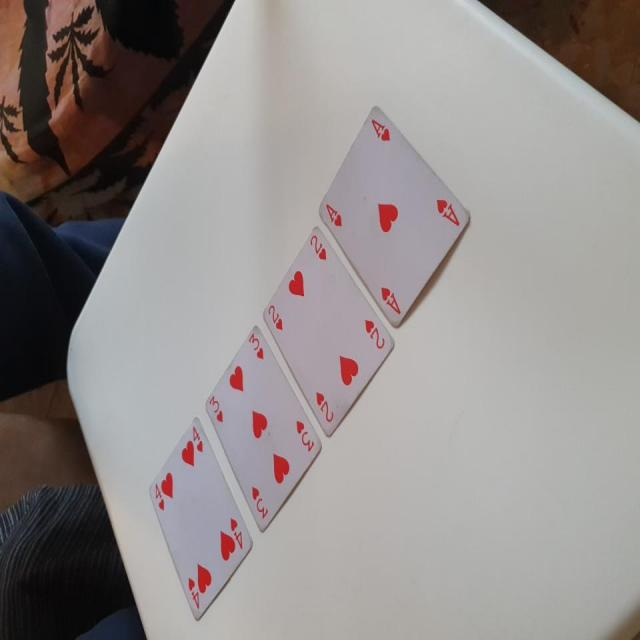2 Hearts: (261, 221, 400, 442)
3 Hearts: (205, 330, 325, 530)
4 Hearts: (146, 419, 252, 626)
A Hearts: (316, 97, 474, 332)
